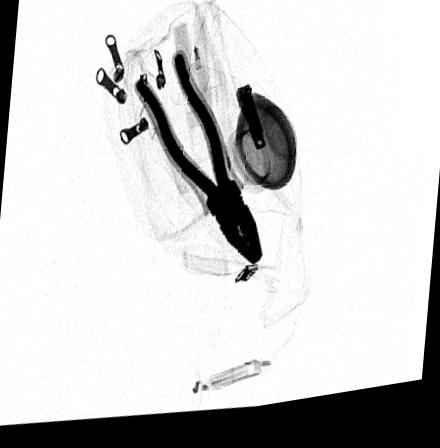Pliers: (131, 58, 265, 273)
